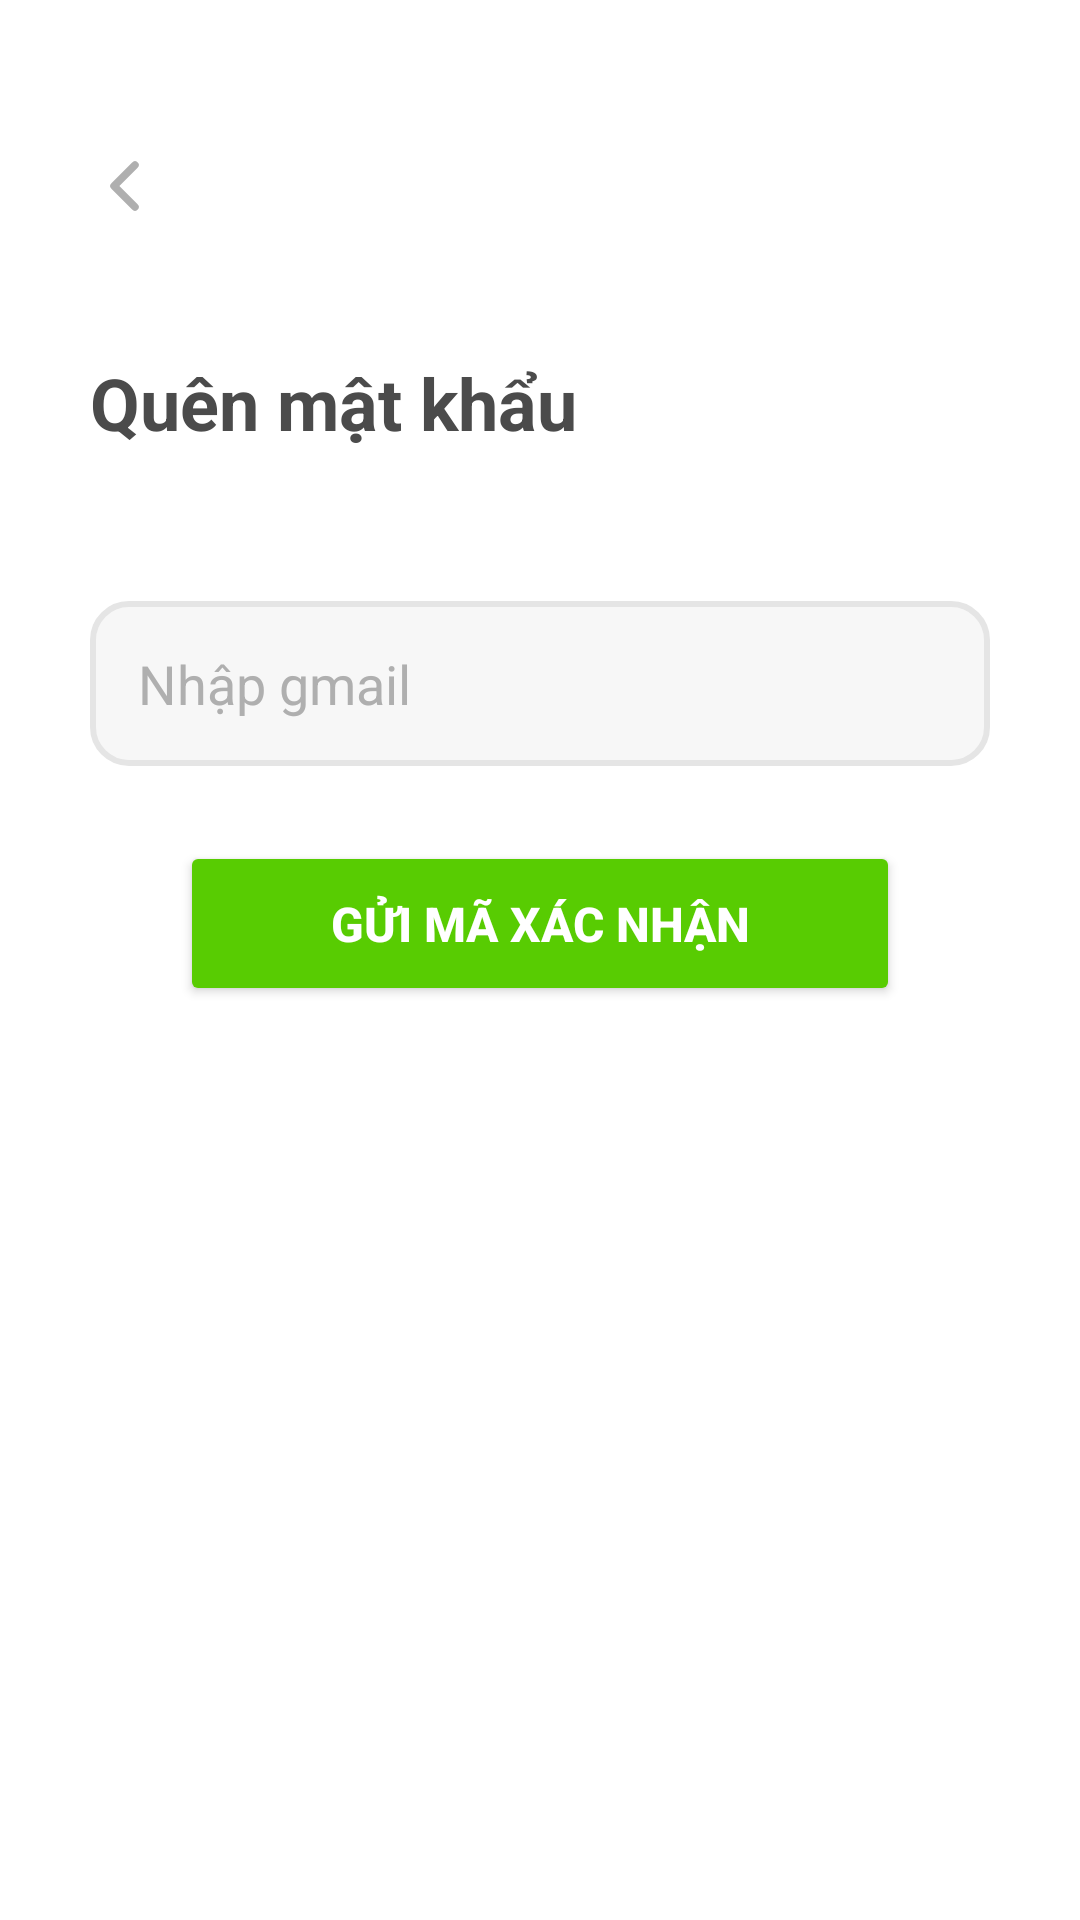

Icons on this 1080px×1920px Android screen, each with its box as {"left": x1, "top": y1, "right": x2, "bottom": y2}:
Quay lại: {"left": 110, "top": 161, "right": 139, "bottom": 211}
